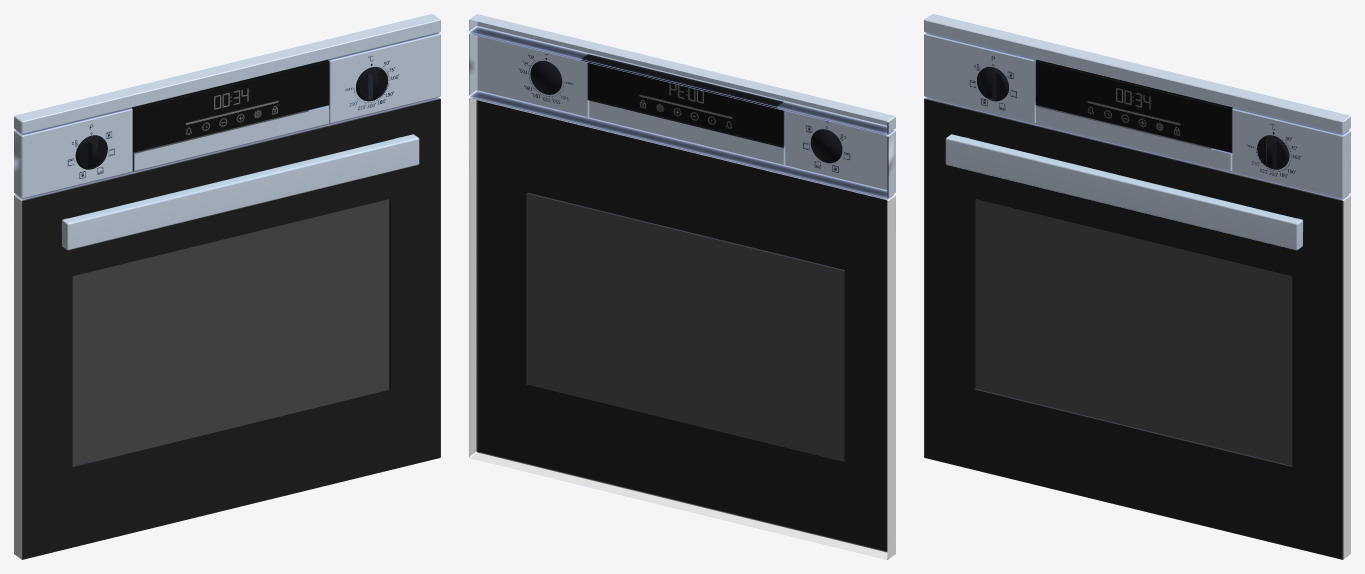
Rendered from geo_oven_Defy.fbx.
3 views of the same model, side by side, from view 1: azimuth 30°, elevation 25°; view 2: azimuth 150°, elevation 25°; view 3: azimuth 330°, elevation 25° (orthographic).
Parts seen in each view (by area): view 1: geo_oven_Defy_LOD0; view 2: geo_oven_Defy_LOD0; view 3: geo_oven_Defy_LOD0.
Boxes of the visible parts, x1,y1,x2,y2 form: geo_oven_Defy_LOD0: (14,14,440,559); geo_oven_Defy_LOD0: (469,14,895,559); geo_oven_Defy_LOD0: (924,14,1350,559).
Size of the model in its own units: 0.597 by 0.5965 by 0.05.
